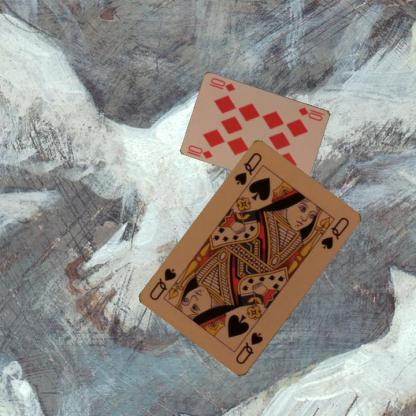10d: (184, 142, 214, 160), (296, 104, 325, 122)
Qs: (232, 330, 265, 366), (232, 150, 264, 187)
